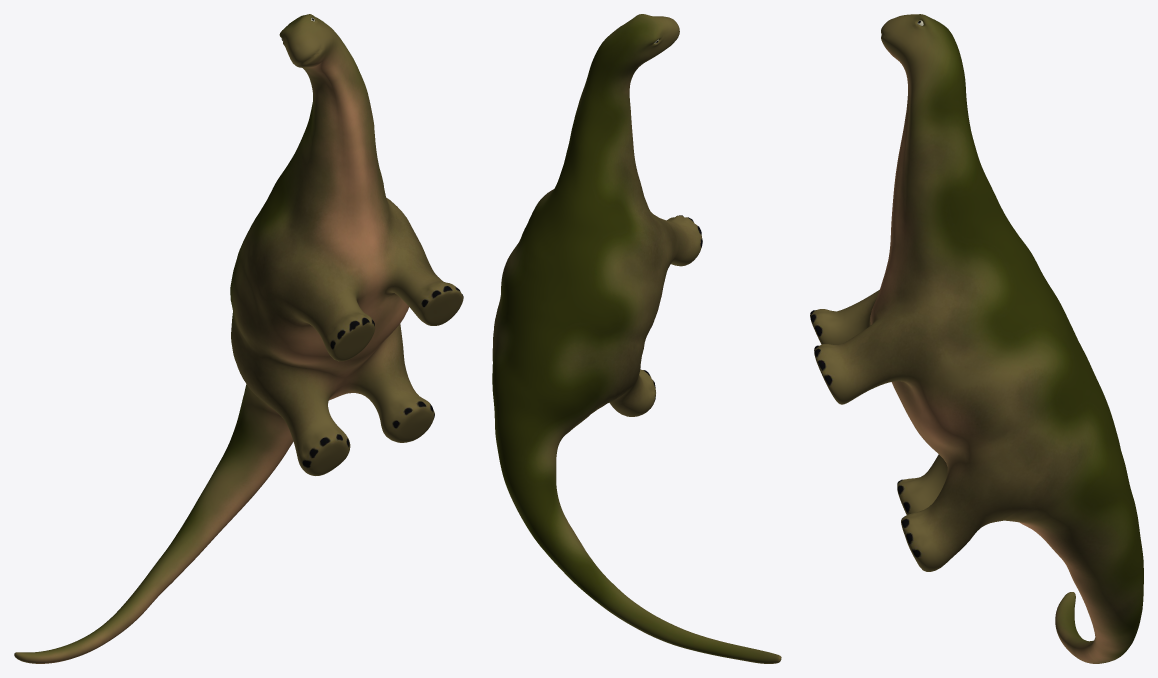
3 renders of one model, left to right at view 1: azimuth 30°, elevation 25°; view 2: azimuth 150°, elevation 25°; view 3: azimuth 270°, elevation 25°, orthographic. The views are drawn at different scales.
Parts seen in each view (by area): view 1: Bronto; view 2: Bronto; view 3: Bronto.
Part boxes in pixels (x1,y1,x2,y2): Bronto: (14,14,463,663); Bronto: (492,14,781,663); Bronto: (810,14,1143,663).
Size of the model in its own units: 0.2826 by 0.5 by 0.212.
1 material, 1 textured.
